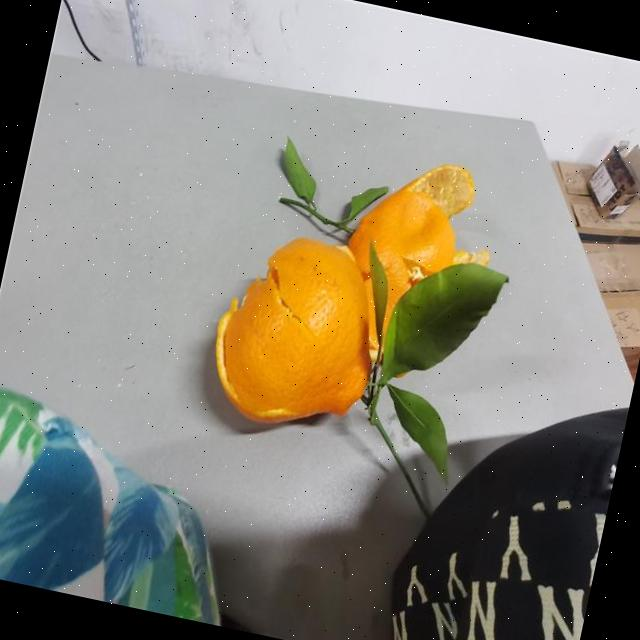orange-peel: (196, 121, 506, 463), (198, 222, 395, 443)
